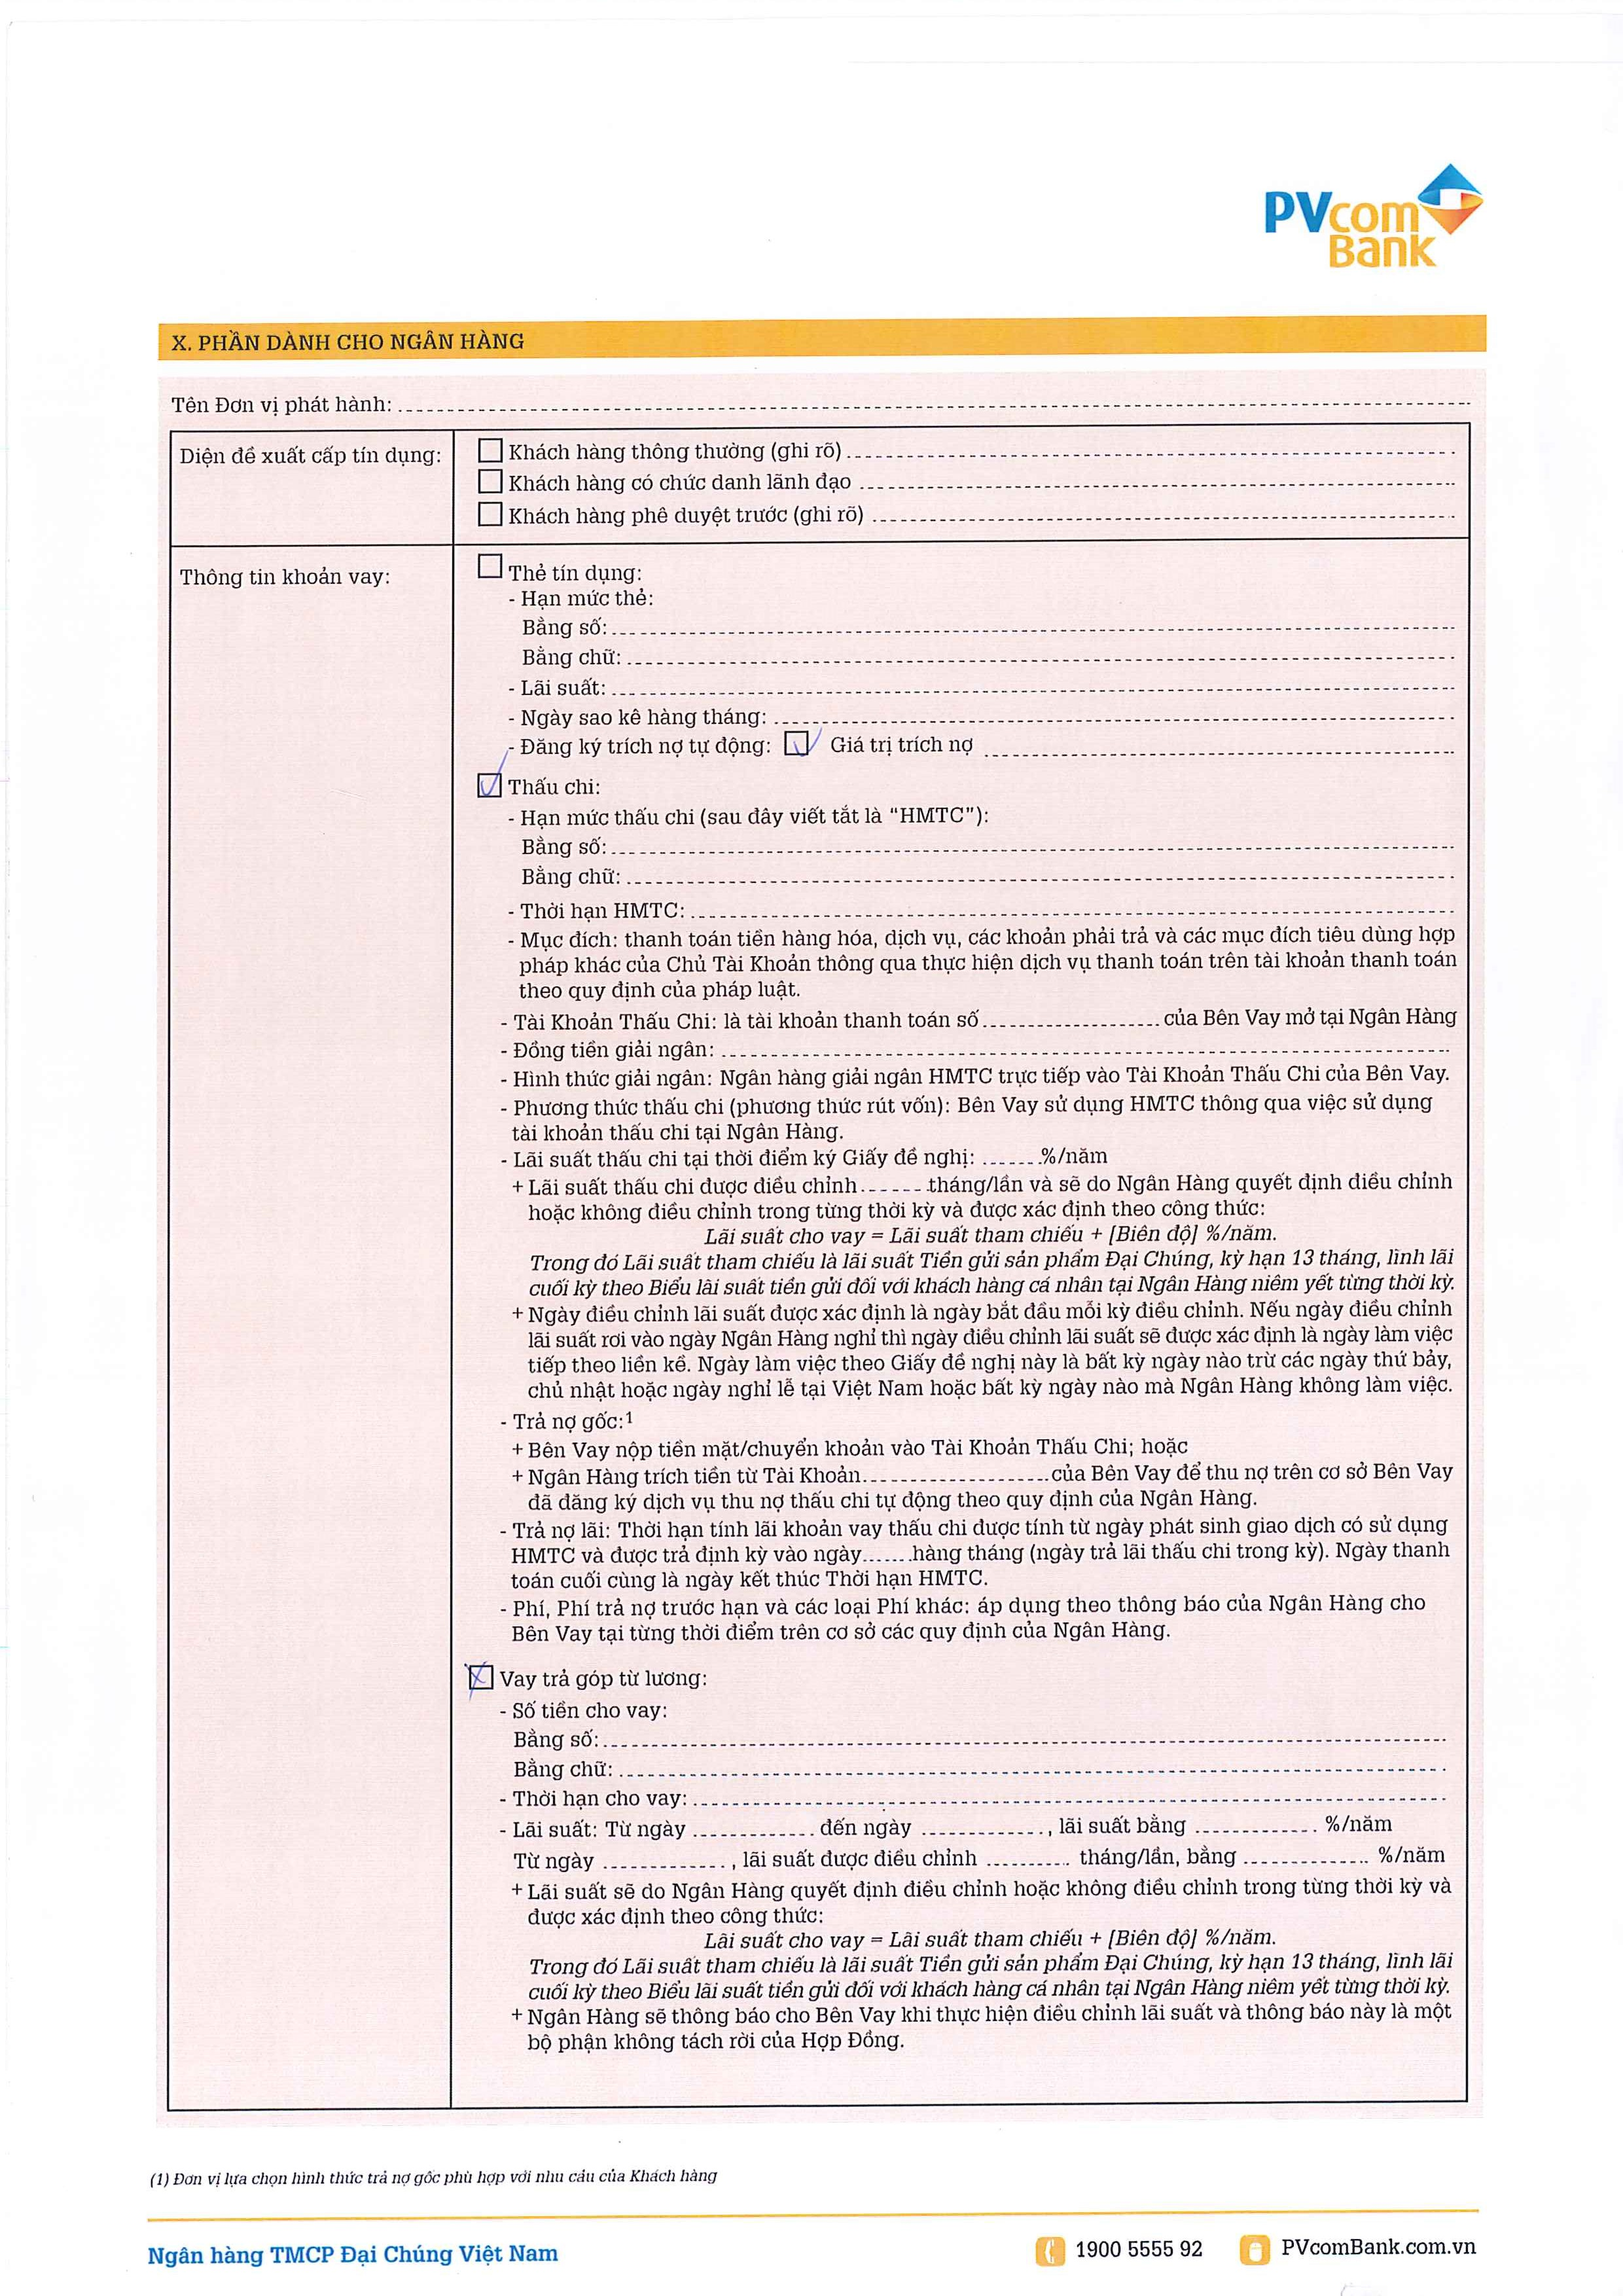box: (780, 724, 817, 764), (474, 768, 509, 805), (472, 434, 506, 467), (465, 1660, 497, 1695), (474, 495, 506, 529), (474, 466, 506, 497), (472, 552, 506, 581)
